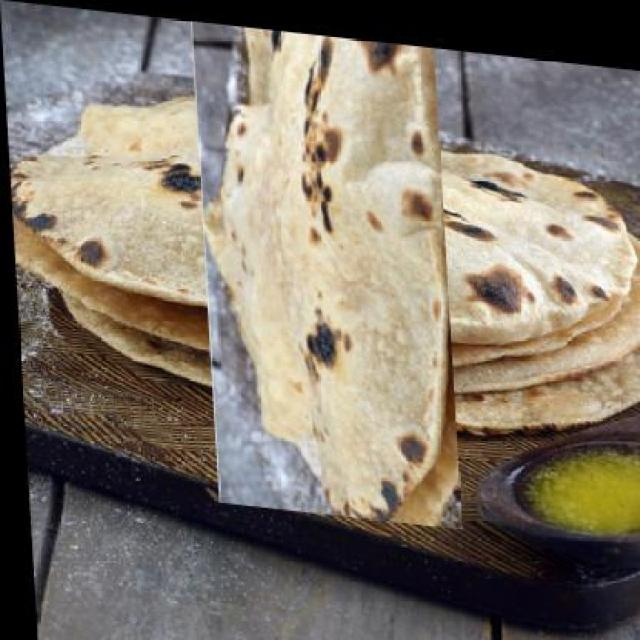chapati: (95, 9, 551, 436)
